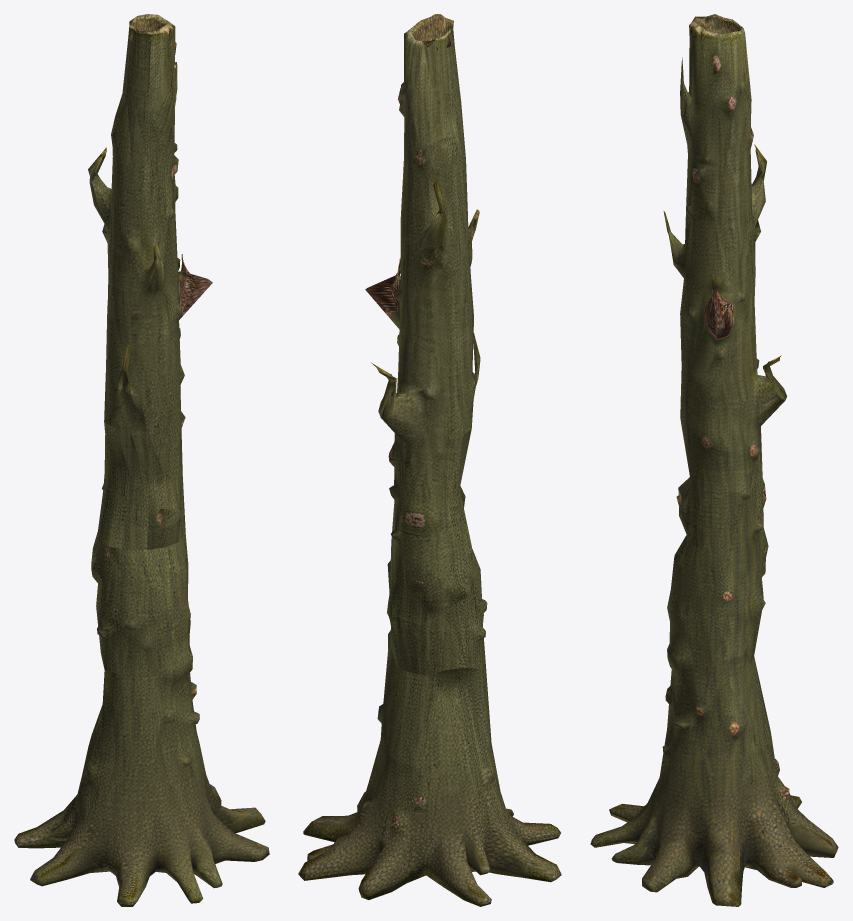
File: Trunk.fbx
3 views of the same model, side by side, from view 1: azimuth 30°, elevation 25°; view 2: azimuth 150°, elevation 25°; view 3: azimuth 270°, elevation 25° (orthographic).
Parts seen in each view (by area): view 1: Trunk; view 2: Trunk; view 3: Trunk.
Part boxes in pixels (left/top/right/bottom): Trunk: left=14, top=14, right=269, bottom=906; Trunk: left=298, top=14, right=561, bottom=906; Trunk: left=590, top=14, right=838, bottom=906.
Bounding box in the file's own units: 30.09 × 100 × 26.88.
Materials: 1 (1 with a texture image).
